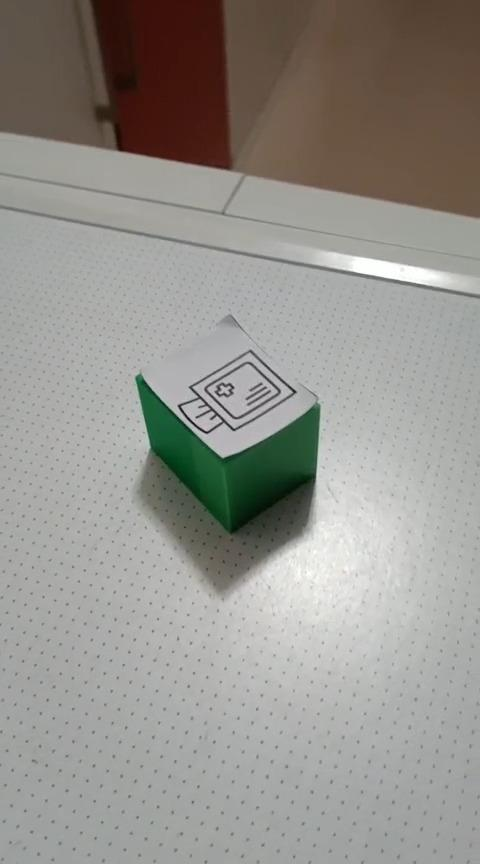Gauze: (133, 312, 321, 534)
